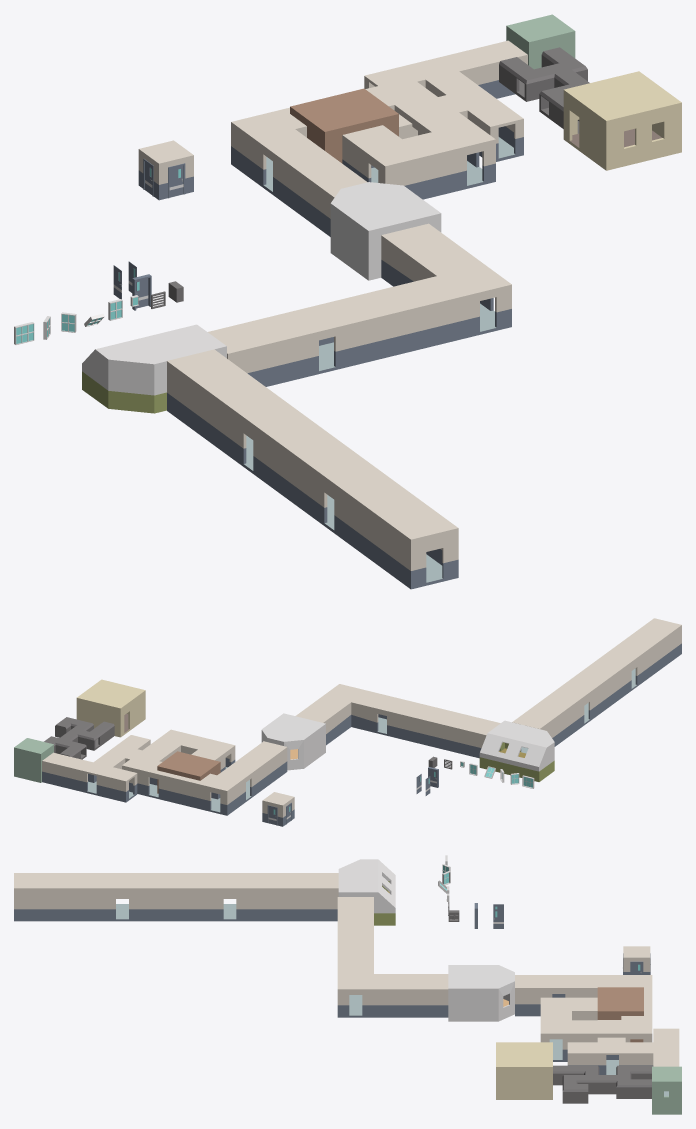
File: RoomLayoutsMinimumAssets.fbx
3 renders of one model, top to bottom at view 1: azimuth 30°, elevation 25°; view 2: azimuth 150°, elevation 25°; view 3: azimuth 270°, elevation 25°, orthographic. The views are drawn at different scales.
Parts seen in each view (by area): view 1: walls.001, walls.002, walls.007, Wall.001, walls.008, walls, walls.003, Wall.004, Wall.003, walls.004, walls.006, DoorCubeJoined (+3 smaller); view 2: walls.001, walls.002, walls.008, Wall.001, walls, walls.007, walls.003, Wall.002, walls.006, walls.005, walls.004, DoorCubeJoined (+2 smaller); view 3: walls.001, walls.002, walls.003, walls.008, walls.007, Wall.001, walls.006, walls, Wall.003, walls.004, walls.005, Wall.002 (+3 smaller).
Boxes of the visible parts, bbox=[...] form: walls.001: bbox=[167, 349, 458, 589]; walls.002: bbox=[208, 223, 511, 386]; walls.007: bbox=[563, 71, 681, 170]; Wall.001: bbox=[231, 112, 367, 236]; walls.008: bbox=[364, 40, 527, 161]; walls: bbox=[82, 324, 226, 413]; walls.003: bbox=[330, 182, 441, 280]; Wall.004: bbox=[361, 132, 455, 199]; Wall.003: bbox=[394, 95, 495, 191]; walls.004: bbox=[290, 88, 398, 163]; walls.006: bbox=[499, 47, 589, 132]; DoorCubeJoined: bbox=[138, 140, 193, 200]; walls.001: bbox=[512, 618, 681, 752]; walls.002: bbox=[295, 684, 500, 758]; walls.008: bbox=[42, 735, 157, 802]; Wall.001: bbox=[203, 741, 287, 815]; walls: bbox=[479, 720, 554, 781]; walls.007: bbox=[76, 679, 145, 737]; walls.003: bbox=[261, 713, 325, 770]; Wall.002: bbox=[122, 755, 216, 809]; walls.006: bbox=[44, 717, 114, 759]; walls.005: bbox=[14, 738, 53, 782]; walls.004: bbox=[157, 751, 220, 793]; DoorCubeJoined: bbox=[262, 792, 294, 826]; walls.001: bbox=[14, 873, 338, 921]; walls.002: bbox=[337, 897, 448, 1017]; walls.003: bbox=[448, 965, 514, 1021]; walls.008: bbox=[567, 1020, 679, 1096]; walls.007: bbox=[496, 1042, 552, 1099]; Wall.001: bbox=[515, 975, 652, 1016]; walls.006: bbox=[553, 1065, 652, 1103]; walls: bbox=[338, 859, 395, 925]; Wall.003: bbox=[540, 1020, 621, 1061]; walls.004: bbox=[597, 987, 643, 1042]; walls.005: bbox=[652, 1066, 681, 1114]; Wall.002: bbox=[621, 988, 652, 1042].
Bounding box in the file's own units: 51.06 × 62.15 × 4.57.
